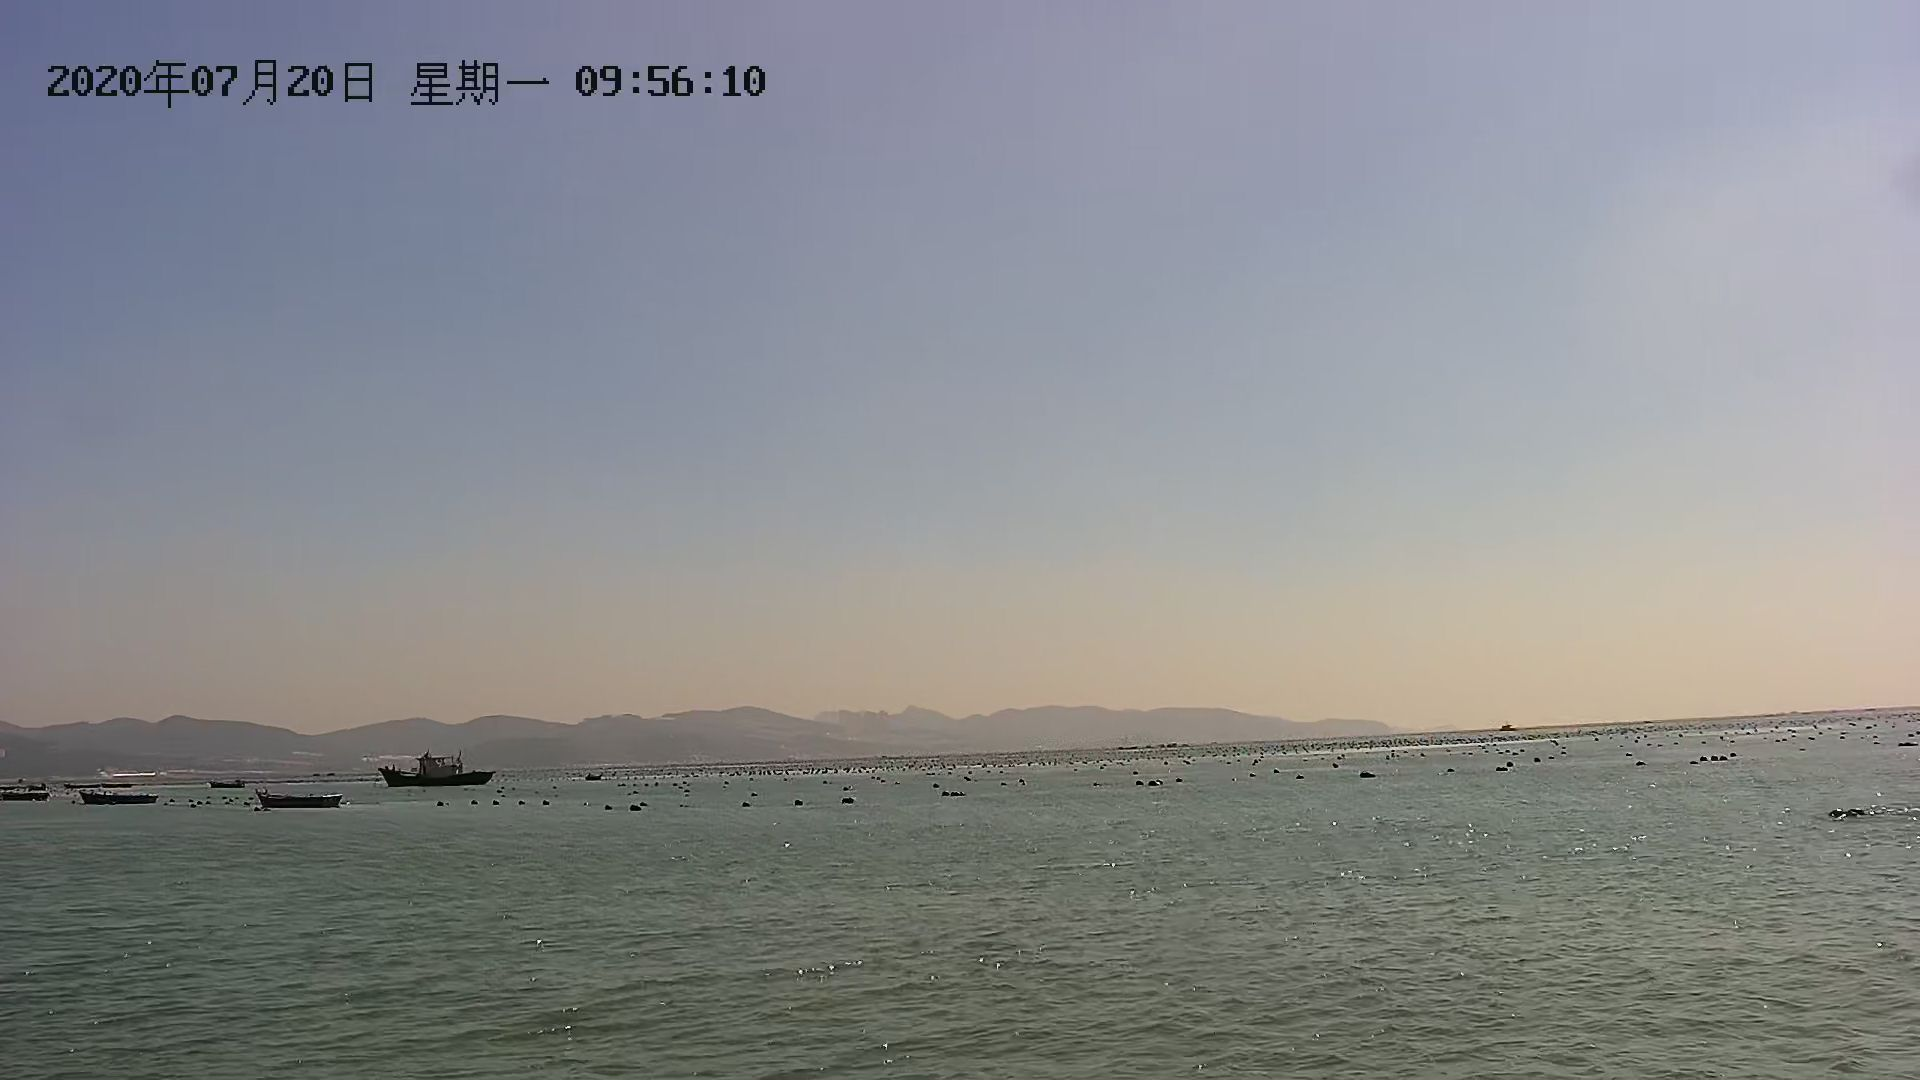boat: (253, 786, 349, 816), (73, 789, 169, 808), (3, 777, 58, 810), (204, 774, 249, 796)
ship: (380, 746, 500, 793)
